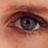eye: (21, 18, 36, 30)
